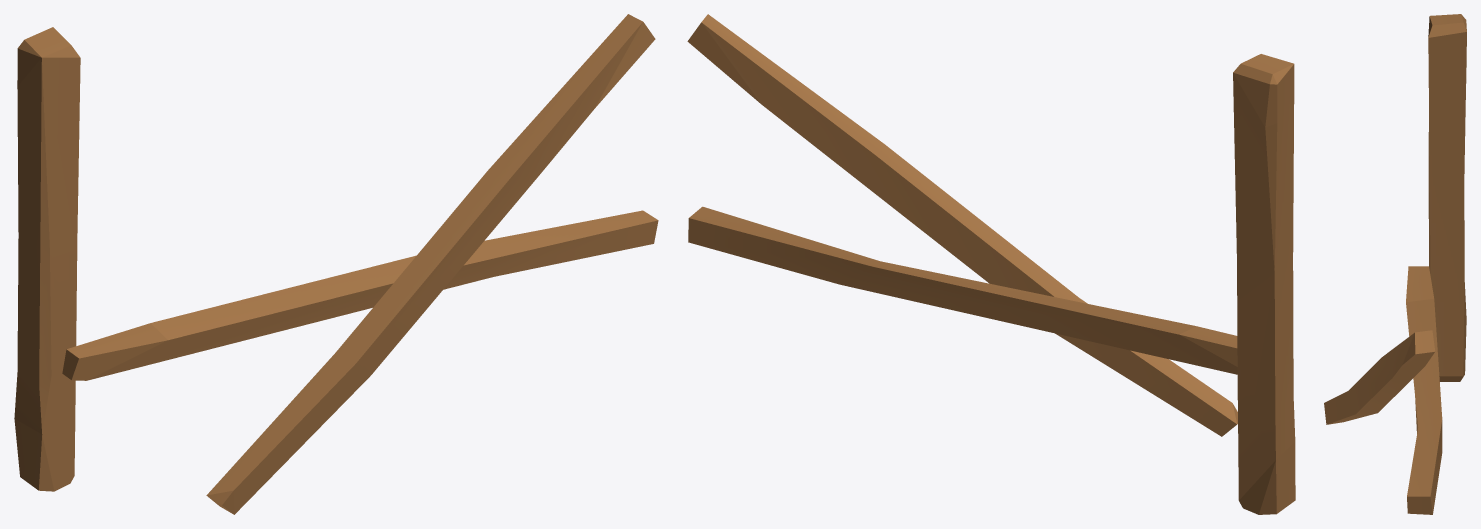
The model's file is Fence_WoodA_F.fbx.
3 renders of one model, left to right at view 1: azimuth 30°, elevation 25°; view 2: azimuth 150°, elevation 25°; view 3: azimuth 270°, elevation 25°, orthographic. The views are drawn at different scales.
Parts seen in each view (by area): view 1: Fence_WoodA_F; view 2: Fence_WoodA_F; view 3: Fence_WoodA_F.
Part boxes in pixels (x1,y1,x2,y2): Fence_WoodA_F: (14,14,658,514); Fence_WoodA_F: (687,14,1295,514); Fence_WoodA_F: (1324,14,1466,514).
Size of the model in its own units: 221 by 156 by 55.38.
